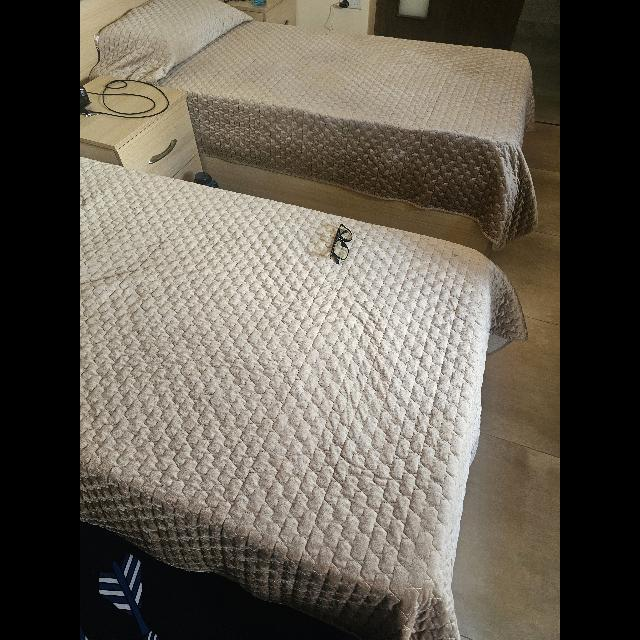glasses: (330, 224, 352, 264)
